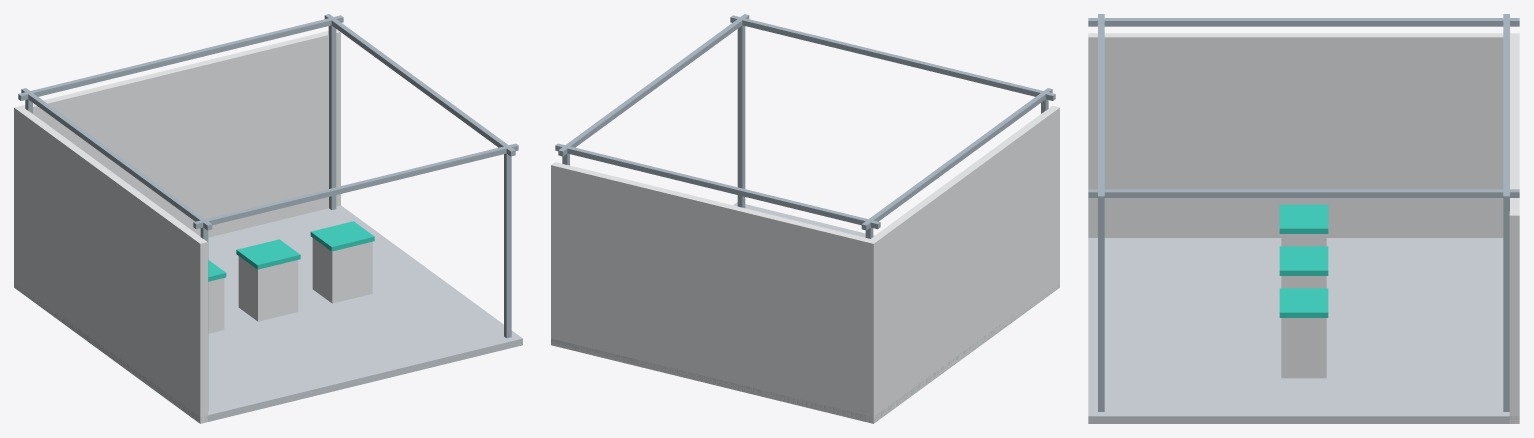
3 renders of one model, left to right at view 1: azimuth 30°, elevation 25°; view 2: azimuth 150°, elevation 25°; view 3: azimuth 270°, elevation 25°, orthographic. The views are drawn at different scales.
Visible parts, largest first — view 1: Exhibition Booth Concept; view 2: Exhibition Booth Concept; view 3: Exhibition Booth Concept.
Part boxes in pixels (x1,y1,x2,y2): Exhibition Booth Concept: [14, 14, 522, 423]; Exhibition Booth Concept: [551, 14, 1059, 423]; Exhibition Booth Concept: [1088, 14, 1519, 423].
Size of the model in its own units: 6 by 3.49 by 6.
